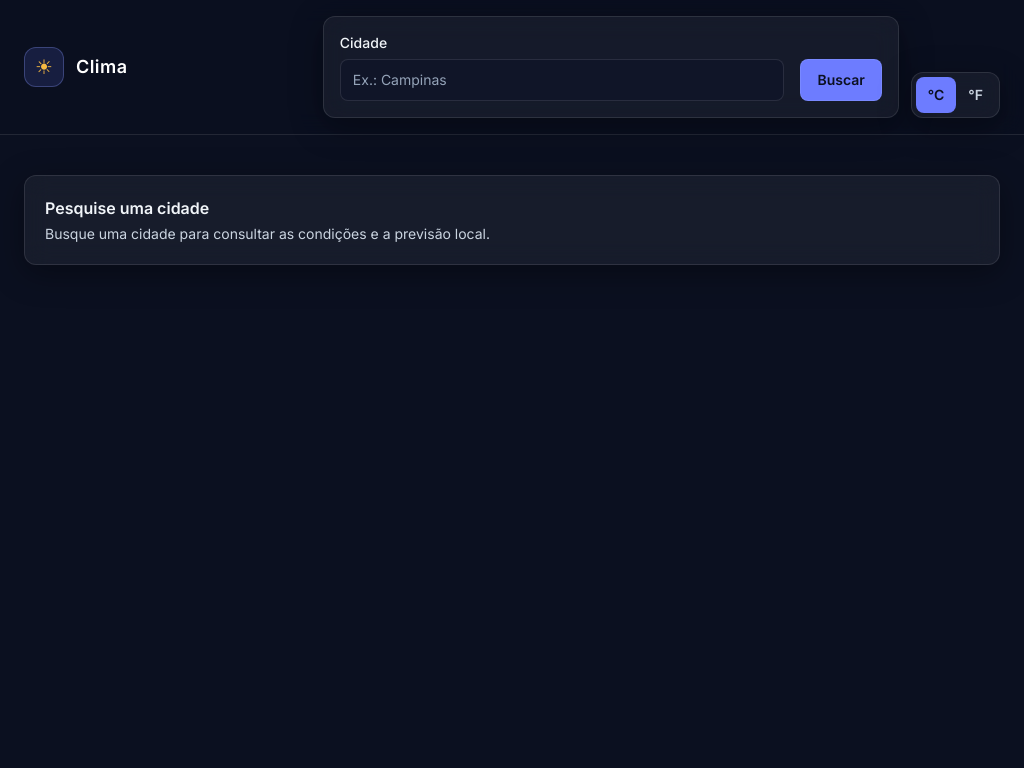
Test case: App › keeps unit as UI state and converts rendered temperatures
Type "Campinas" into the search field labelled "Cidade". click: (562, 80)
box: top-left (340, 59), bottom-right (784, 101)
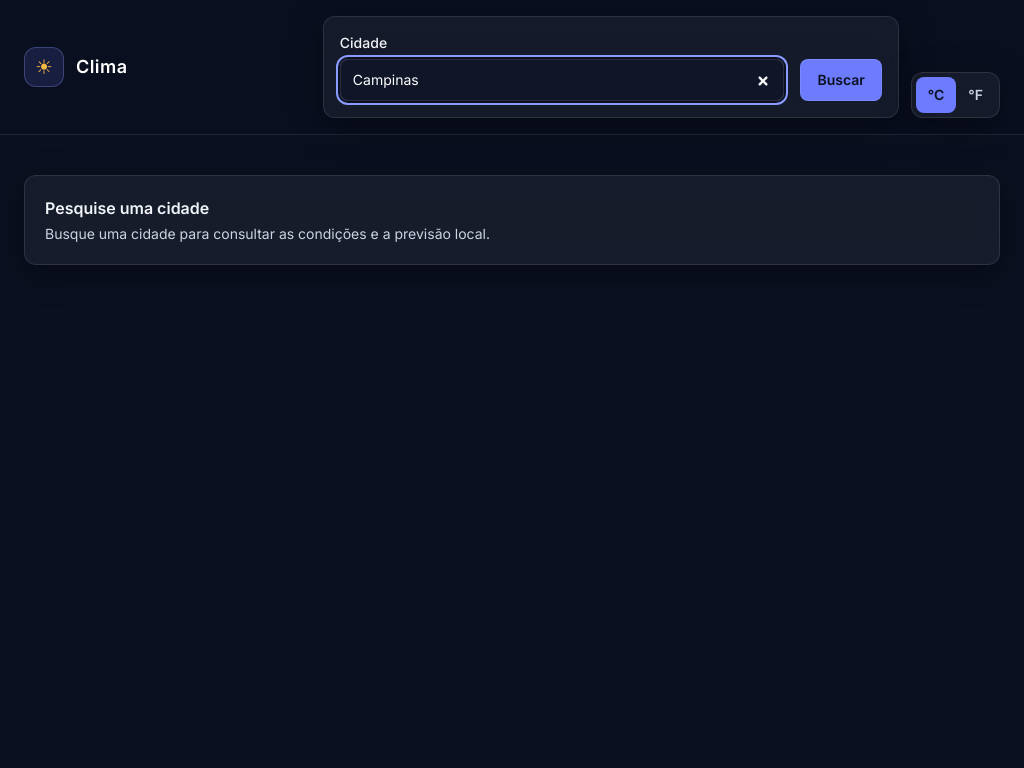
Click the button "Buscar". click: (841, 80)
box: top-left (800, 59), bottom-right (882, 101)
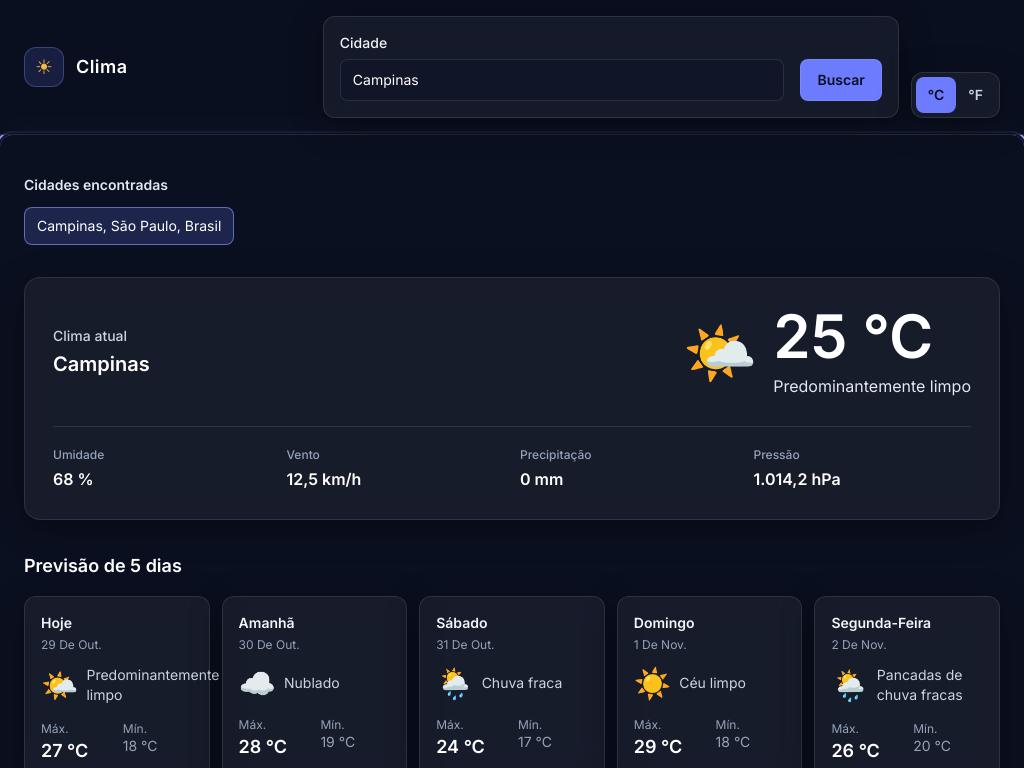
Check: the text "25 °C" is shown, box top-left (773, 300), bottom-right (933, 372)
Click the button named "Fahrenheit". click: (976, 95)
box: top-left (956, 77), bottom-right (995, 113)
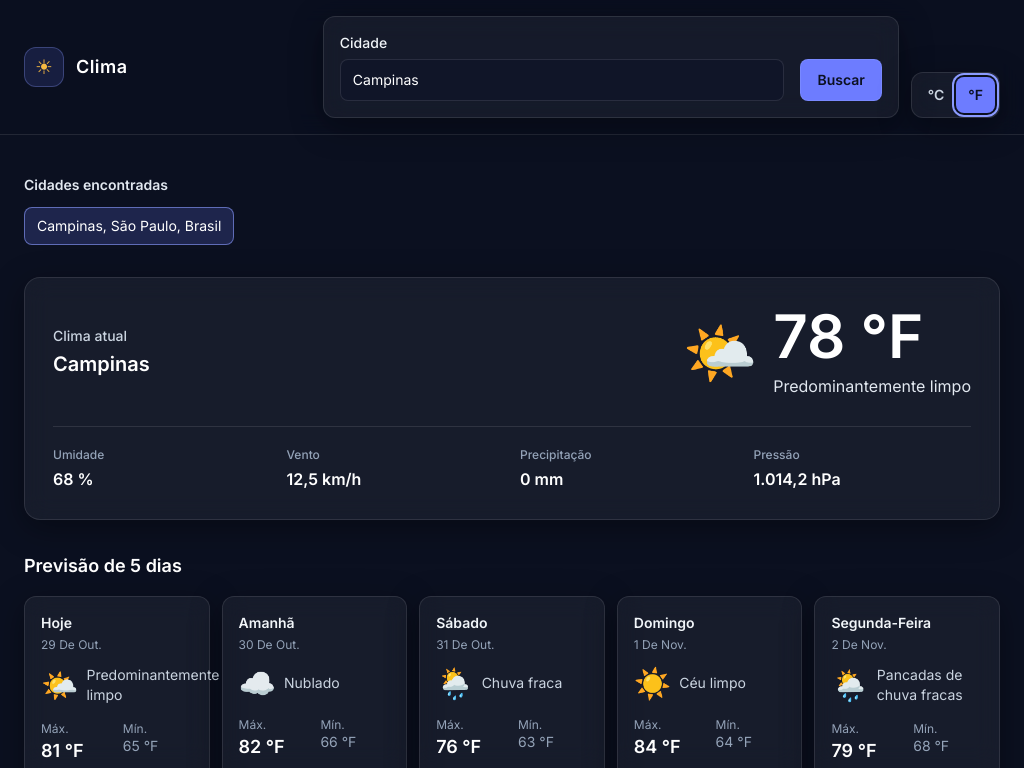
Check: the text "78 °F" is shown, box top-left (773, 300), bottom-right (923, 372)
Check: the text "81 °F" is shown, box top-left (41, 740), bottom-right (84, 761)
